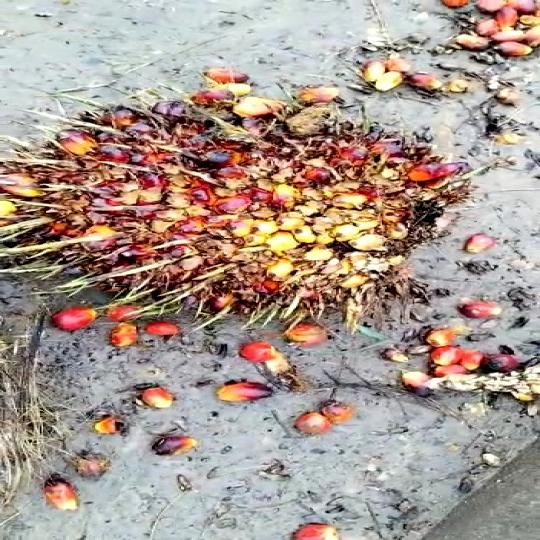terlalu masak: (0, 86, 484, 349)
